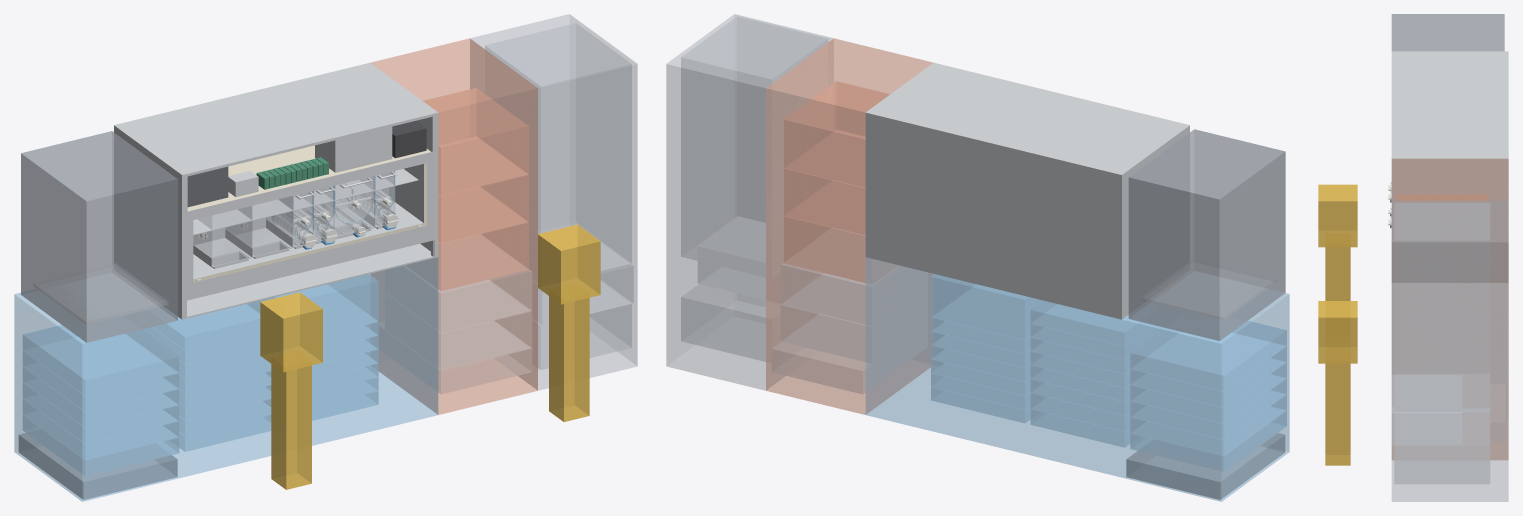
File: hat_v6.glb
3 views of the same model, side by side, from view 1: azimuth 30°, elevation 25°; view 2: azimuth 150°, elevation 25°; view 3: azimuth 270°, elevation 25° (orthographic). The views are drawn at different scales.
Visible parts, largest first — view 1: B_KABIN, TOPPING_MODUL__sac, D_KABIN, E_KABIN, PRESS, E_SARJOR, FIRIN_3, CEK_K1_hamur_6, B_SOGUTMA, ROBOT_2, ROBOT_1, PRESS_PLAKA (+39 smaller); view 2: B_KABIN, TOPPING_MODUL__sac, D_KABIN, E_KABIN, PRESS, E_SARJOR, FIRIN_3, CEK_K1_hamur_6, B_SOGUTMA, E_MEK, PRESS_PLAKA, CEK_K3_icecek_1 (+25 smaller); view 3: E_KABIN, TOPPING_MODUL__sac, E_SARJOR, D_KABIN, E_MEK, PRESS, ROBOT_2, ROBOT_1_KOL, ROBOT_2_KOL, E_AGZ, ROBOT_1, FIRIN_3.
Boxes of the visible parts, x1=… form: B_KABIN: x1=14, y1=257, x2=438, y2=501; TOPPING_MODUL__sac: x1=114, y1=62, x2=438, y2=319; D_KABIN: x1=370, y1=38, x2=537, y2=414; E_KABIN: x1=470, y1=14, x2=637, y2=390; PRESS: x1=21, y1=131, x2=177, y2=342; E_SARJOR: x1=485, y1=23, x2=631, y2=270; FIRIN_3: x1=423, y1=88, x2=528, y2=195; CEK_K1_hamur_6: x1=23, y1=325, x2=178, y2=395; B_SOGUTMA: x1=18, y1=429, x2=177, y2=499; ROBOT_2: x1=549, y1=283, x2=589, y2=421; ROBOT_1: x1=271, y1=351, x2=311, y2=489; PRESS_PLAKA: x1=33, y1=263, x2=168, y2=324; B_KABIN: x1=865, y1=257, x2=1289, y2=501; TOPPING_MODUL__sac: x1=865, y1=62, x2=1189, y2=319; D_KABIN: x1=766, y1=38, x2=933, y2=414; E_KABIN: x1=666, y1=14, x2=833, y2=390; PRESS: x1=1128, y1=129, x2=1285, y2=340; E_SARJOR: x1=681, y1=16, x2=827, y2=277; FIRIN_3: x1=784, y1=81, x2=889, y2=187; CEK_K1_hamur_6: x1=1130, y1=321, x2=1286, y2=391; B_SOGUTMA: x1=1126, y1=429, x2=1285, y2=499; E_MEK: x1=681, y1=284, x2=765, y2=361; PRESS_PLAKA: x1=1141, y1=259, x2=1275, y2=320; CEK_K3_icecek_1: x1=931, y1=274, x2=1042, y2=339; E_KABIN: x1=1391, y1=200, x2=1508, y2=501; TOPPING_MODUL__sac: x1=1391, y1=51, x2=1508, y2=282; E_SARJOR: x1=1394, y1=203, x2=1489, y2=411; D_KABIN: x1=1392, y1=158, x2=1508, y2=459; E_MEK: x1=1394, y1=412, x2=1489, y2=483; PRESS: x1=1391, y1=14, x2=1504, y2=51; ROBOT_2: x1=1325, y1=363, x2=1350, y2=465; ROBOT_1_KOL: x1=1318, y1=184, x2=1357, y2=247; ROBOT_2_KOL: x1=1318, y1=301, x2=1357, y2=363; E_AGZ: x1=1392, y1=375, x2=1461, y2=444; ROBOT_1: x1=1325, y1=234, x2=1350, y2=300; FIRIN_3: x1=1397, y1=195, x2=1487, y2=200.
Size of the model in its own units: 3.9 by 2.03 by 1.35.
